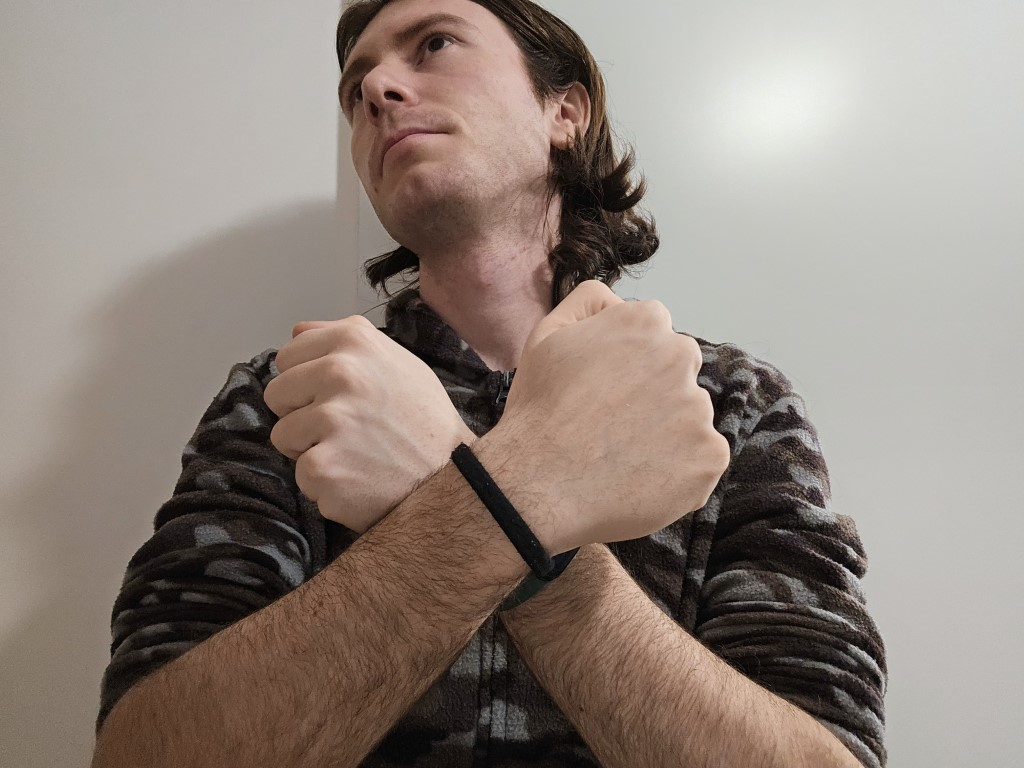del: (256, 266, 754, 626)
